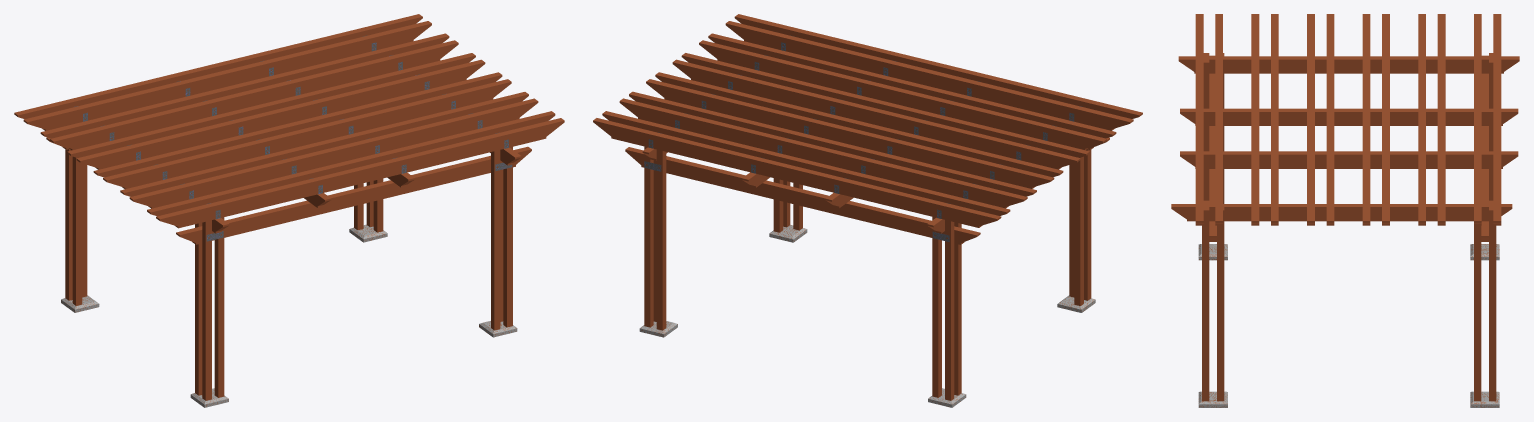
3 views of the same model, side by side, from view 1: azimuth 30°, elevation 25°; view 2: azimuth 150°, elevation 25°; view 3: azimuth 270°, elevation 25° (orthographic). The views are drawn at different scales.
Visible parts, largest first — view 1: Ramada_Board_Top (×13), Ramada_Post (×9); view 2: Ramada_Board_Top (×13), Ramada_Post (×9); view 3: Ramada_Board_Top (×18), Ramada_Post (×6), Ramada_Post_Group (×2).
Boxes of the visible parts, x1,y1,x2,y2 form: Ramada_Board_Top (×13): (14,14,564,244); Ramada_Post (×9): (65,147,512,400); Ramada_Board_Top (×13): (593,14,1142,244); Ramada_Post (×9): (644,146,1091,400); Ramada_Board_Top (×18): (1171,14,1519,241); Ramada_Post (×6): (1202,59,1496,401); Ramada_Post_Group (×2): (1198,391,1499,407).
Bounding box in the file's own units: 251 × 178 × 119.
